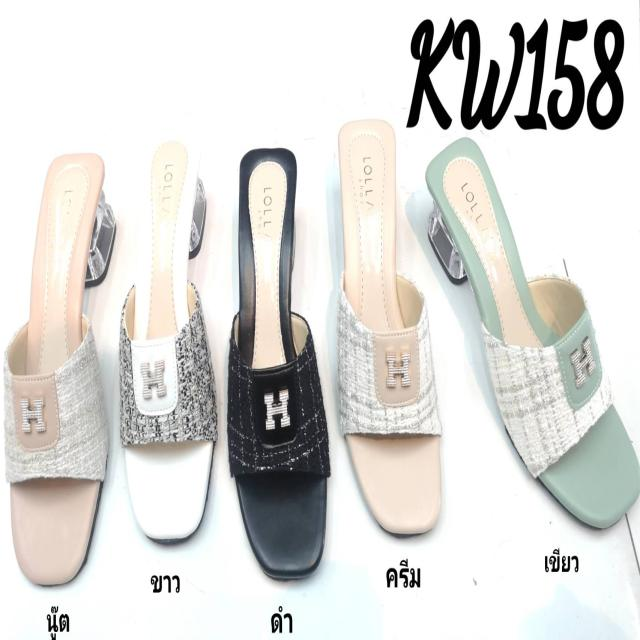black: (232, 143, 328, 575)
cream: (343, 119, 439, 533)
green: (425, 136, 640, 531)
nood: (10, 146, 110, 587)
white: (122, 135, 215, 538)
